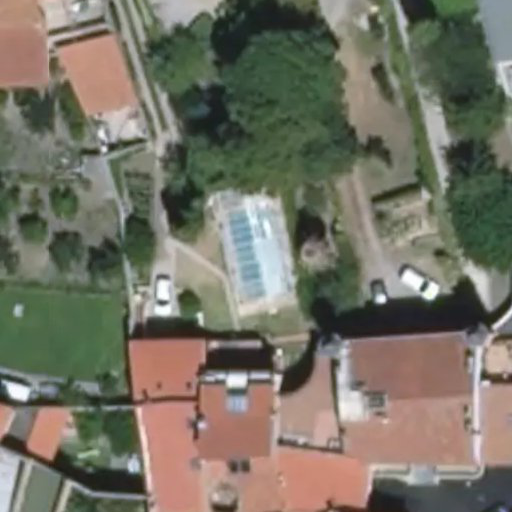pool: (225, 207, 283, 278)
